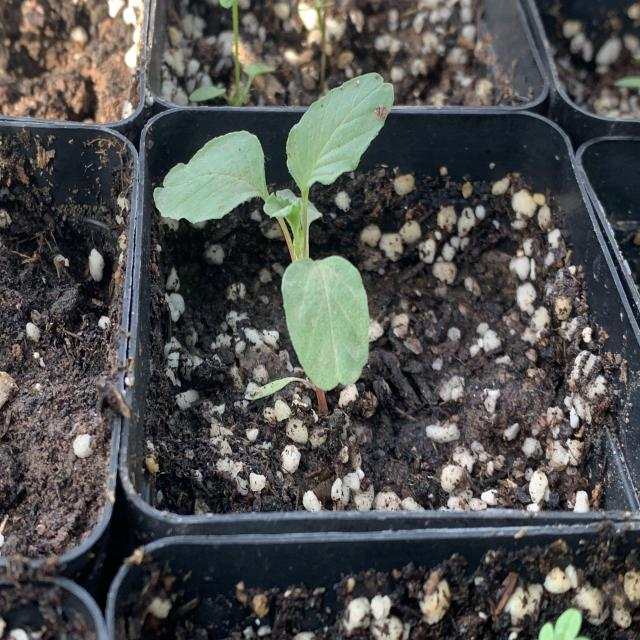pigweed: (156, 81, 430, 396)
